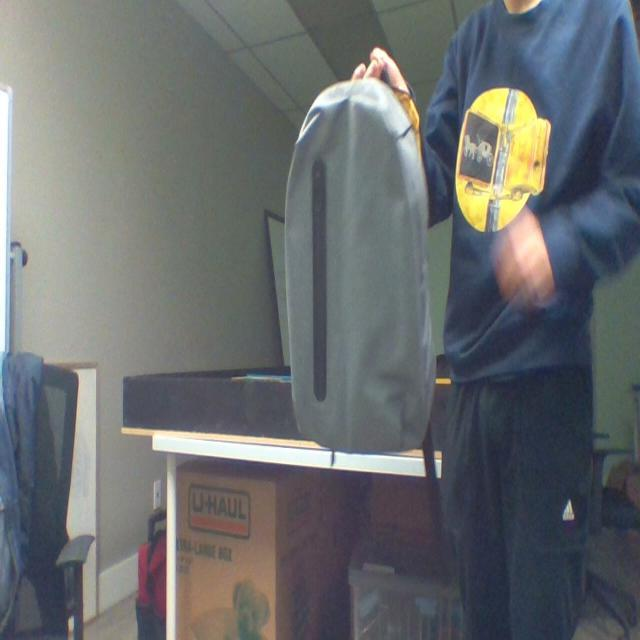Backpacks: (278, 90, 436, 458)
